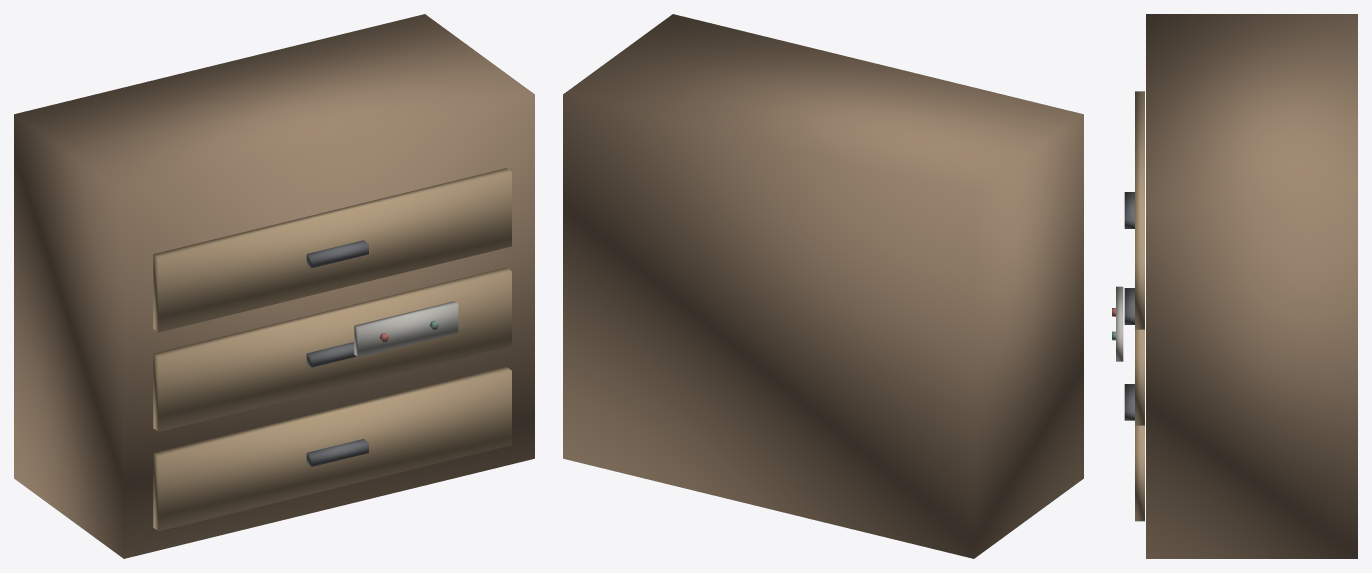
File: dresser__compact.glb
3 renders of one model, left to right at view 1: azimuth 30°, elevation 25°; view 2: azimuth 150°, elevation 25°; view 3: azimuth 270°, elevation 25°, orthographic. The views are drawn at different scales.
Parts seen in each view (by area): view 1: world; view 2: world; view 3: world.
Part boxes in pixels (left/top/right/bottom): world: left=14, top=14, right=534, bottom=558; world: left=563, top=14, right=1083, bottom=558; world: left=1112, top=14, right=1357, bottom=558.
Size of the model in its own units: 0.966 by 0.8184 by 0.519.
